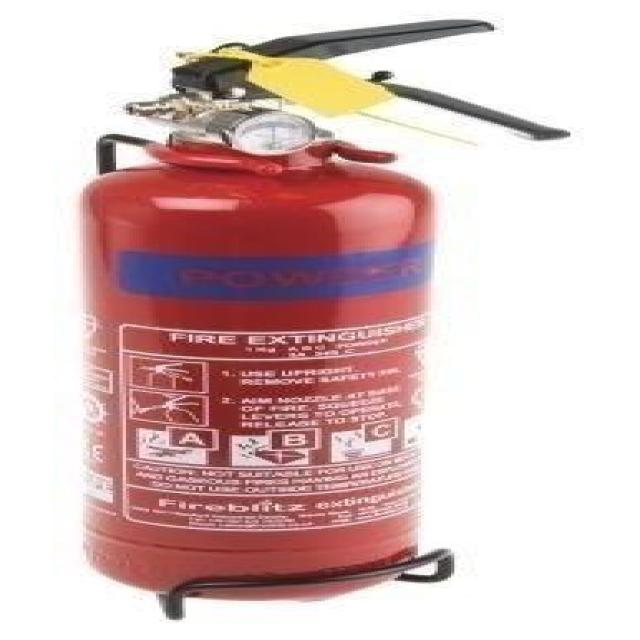fire_extinguisher: (58, 12, 575, 603)
